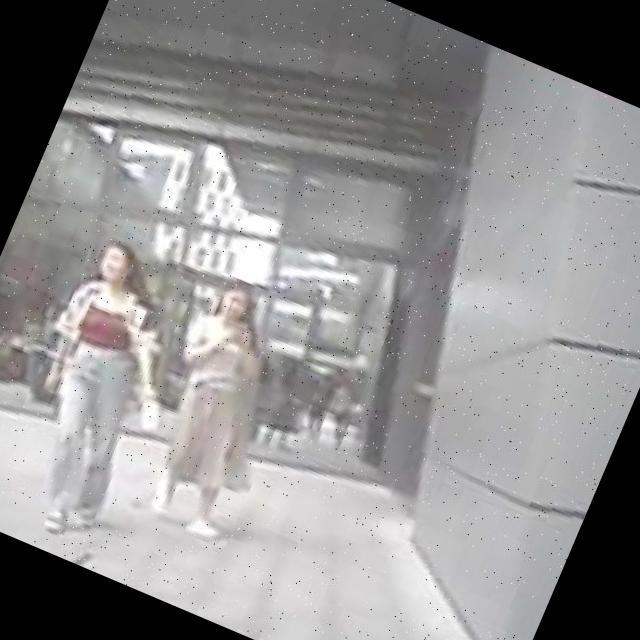person: (0, 230, 204, 550), (116, 273, 312, 545)
